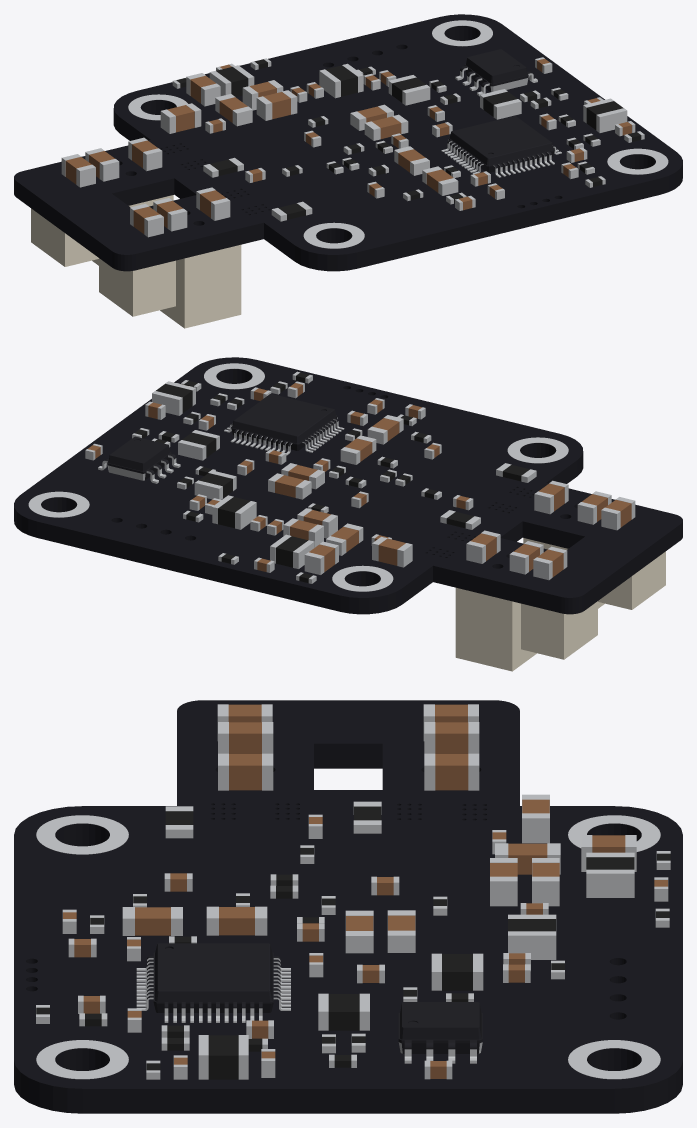
File: body.glb
3 renders of one model, top to bottom at view 1: azimuth 30°, elevation 25°; view 2: azimuth 150°, elevation 25°; view 3: azimuth 270°, elevation 25°, orthographic. The views are drawn at different scales.
Parts seen in each view (by area): view 1: mask, tin, cream, ceramic, plastic, resistor, ring; view 2: mask, tin, cream, ceramic, plastic, resistor, ring; view 3: mask, tin, ceramic, plastic, resistor, ring.
Boxes of the visible parts, x1=… form: mask: x1=14, y1=14, x2=682, y2=271; tin: x1=61, y1=57, x2=644, y2=237; cream: x1=31, y1=195, x2=241, y2=328; ceramic: x1=65, y1=58, x2=631, y2=233; plastic: x1=447, y1=49, x2=554, y2=172; resistor: x1=176, y1=59, x2=641, y2=219; ring: x1=128, y1=20, x2=668, y2=248; mask: x1=14, y1=357, x2=682, y2=614; tin: x1=85, y1=371, x2=635, y2=583; cream: x1=455, y1=538, x2=665, y2=671; ceramic: x1=88, y1=383, x2=631, y2=576; plastic: x1=104, y1=394, x2=338, y2=479; resistor: x1=134, y1=372, x2=529, y2=582; ring: x1=28, y1=363, x2=568, y2=591; mask: x1=14, y1=700, x2=682, y2=1113; tin: x1=36, y1=704, x2=670, y2=1079; ceramic: x1=63, y1=704, x2=667, y2=1078; plastic: x1=147, y1=943, x2=482, y2=1053; resistor: x1=36, y1=806, x2=670, y2=1079; ring: x1=36, y1=815, x2=660, y2=1079.
Size of the model in its own units: 0.0536 by 0.0104 by 0.039.
